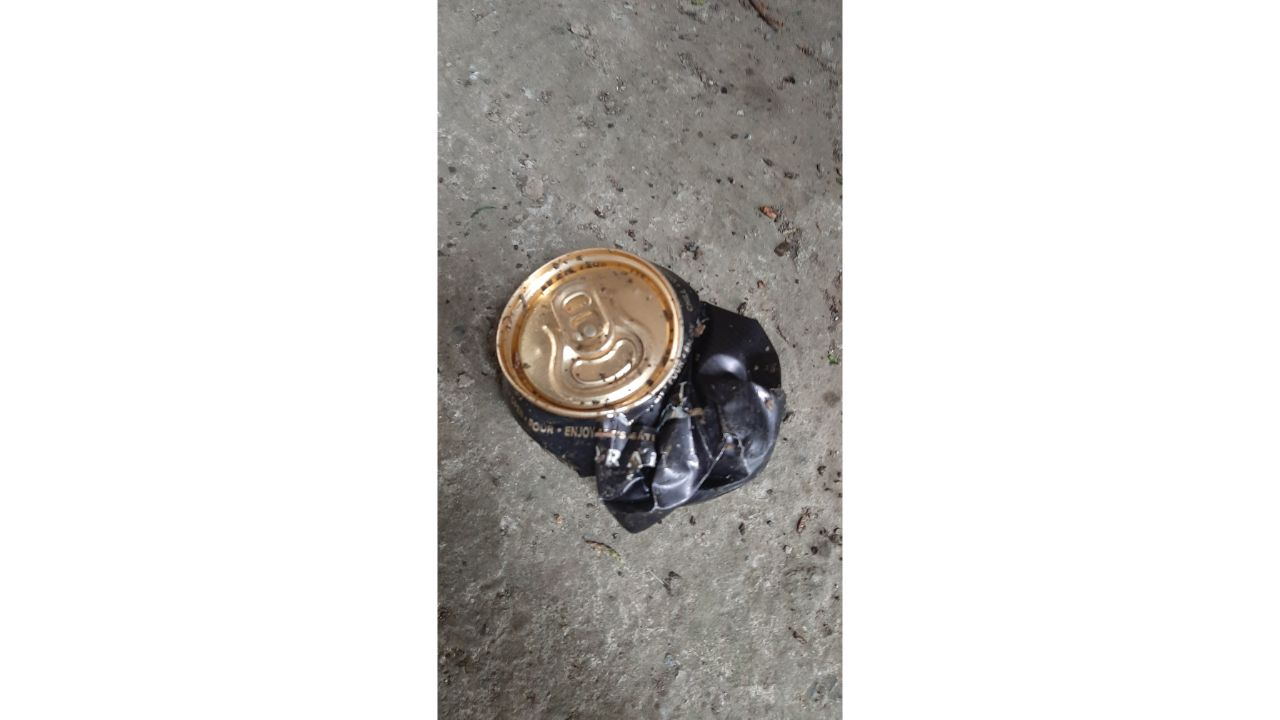Can: (492, 247, 785, 533)
